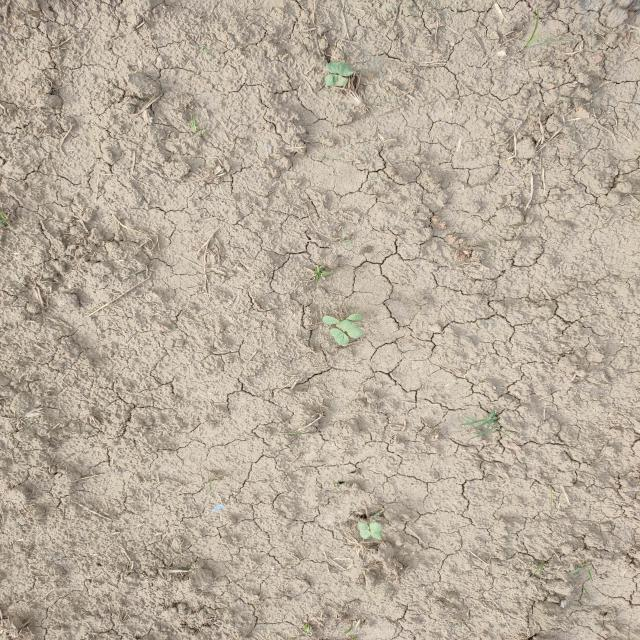seedling: (338, 320, 363, 338), (326, 62, 354, 76), (329, 328, 349, 345), (324, 74, 348, 87), (369, 522, 382, 539), (358, 522, 371, 539), (322, 316, 340, 325), (345, 313, 362, 322)
